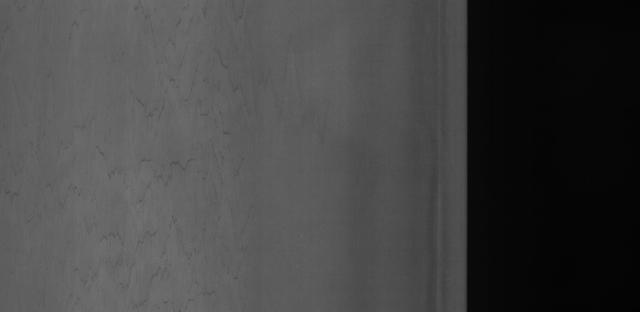silk_spot: (121, 40, 287, 234)
